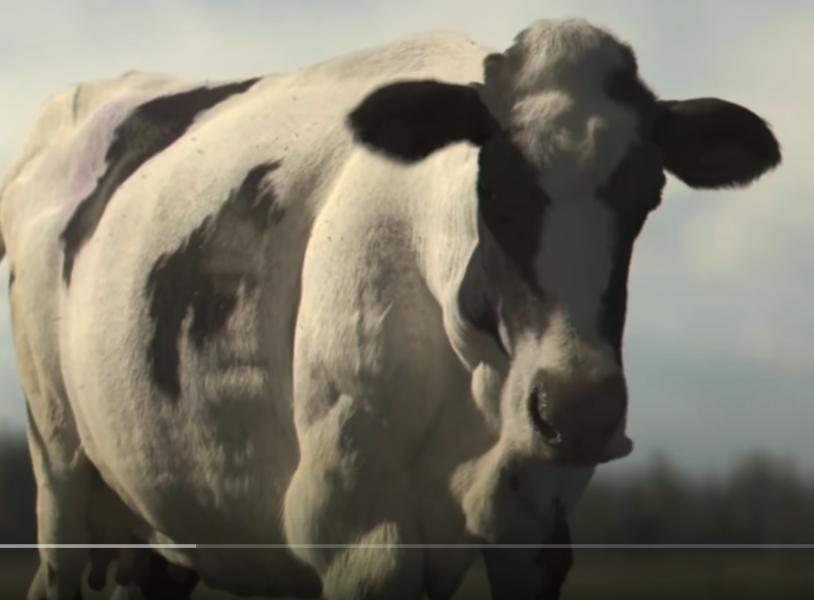cow: (0, 18, 781, 600)
